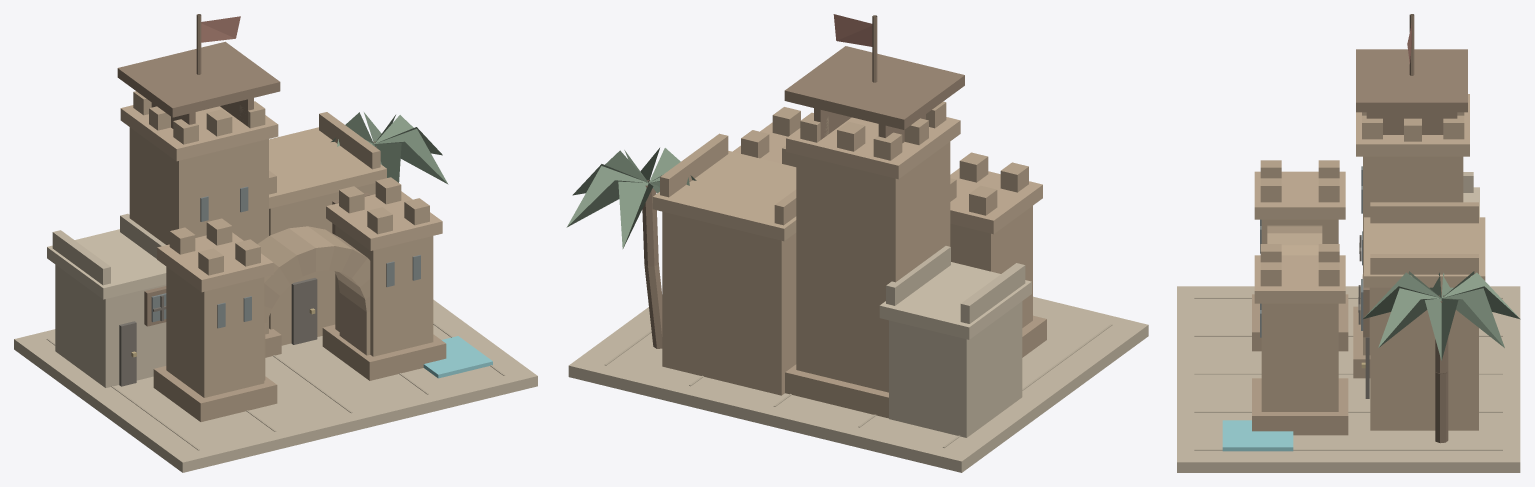
The picture shows the model from 3 angles, left to right: view 1: azimuth 30°, elevation 25°; view 2: azimuth 150°, elevation 25°; view 3: azimuth 270°, elevation 25°; orthographic projection. The views are drawn at different scales.
Visible parts, largest first — view 1: S27; view 2: S27; view 3: S27.
Part boxes in pixels (box(x1,y1,x2,y2)): S27: box(14, 14, 537, 472); S27: box(566, 14, 1148, 472); S27: box(1177, 14, 1520, 472).
Size of the model in its own units: 4.34 by 3.63 by 3.26.
